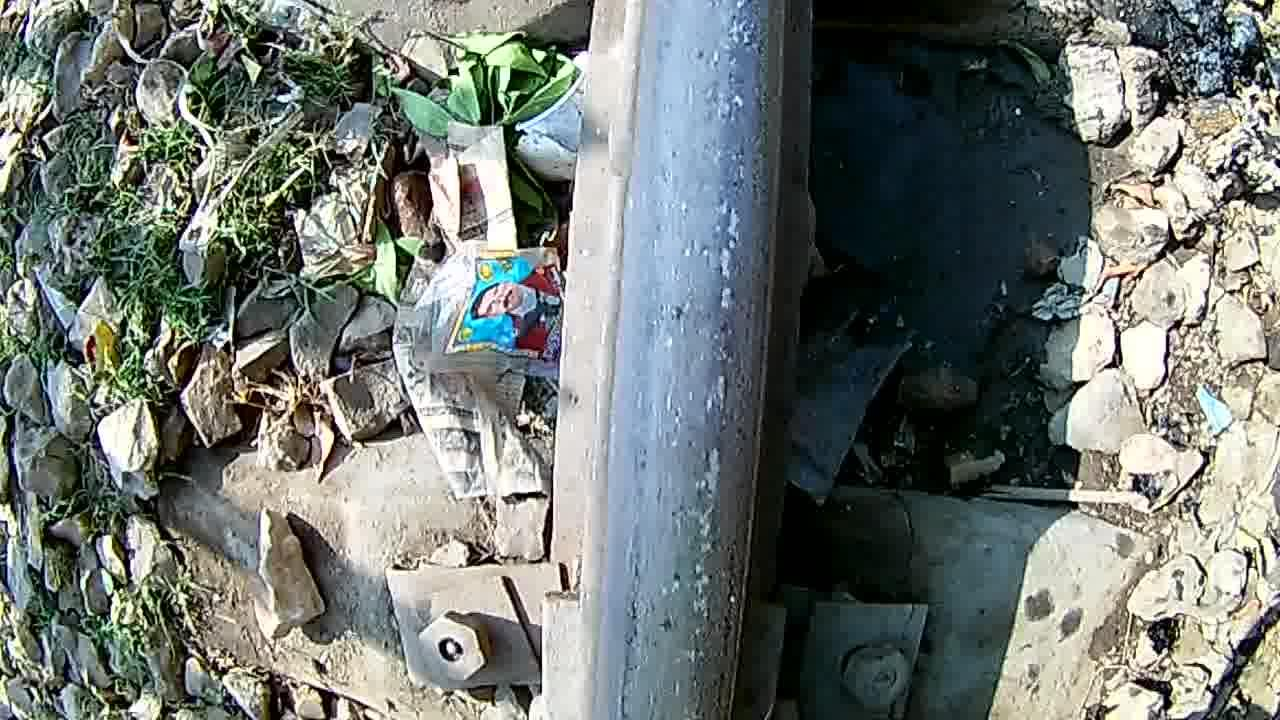clip_missing: (585, 2, 800, 720)
